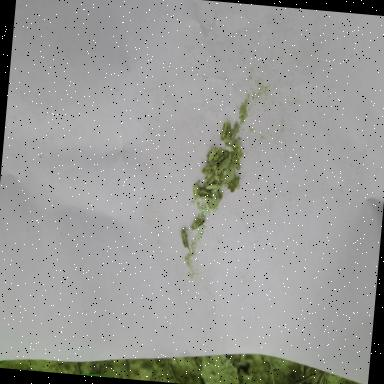pbw: (227, 172, 245, 194), (178, 228, 194, 252), (234, 142, 250, 162), (188, 216, 206, 232), (201, 148, 217, 166), (228, 122, 240, 144), (218, 122, 229, 145), (224, 121, 234, 145), (200, 163, 216, 177), (230, 155, 242, 173), (213, 189, 225, 207), (191, 182, 201, 202), (211, 148, 223, 164), (211, 164, 221, 183), (198, 187, 216, 197), (216, 150, 228, 164), (217, 158, 228, 173), (198, 192, 214, 202), (225, 150, 233, 168), (206, 183, 222, 192), (225, 167, 231, 184)
